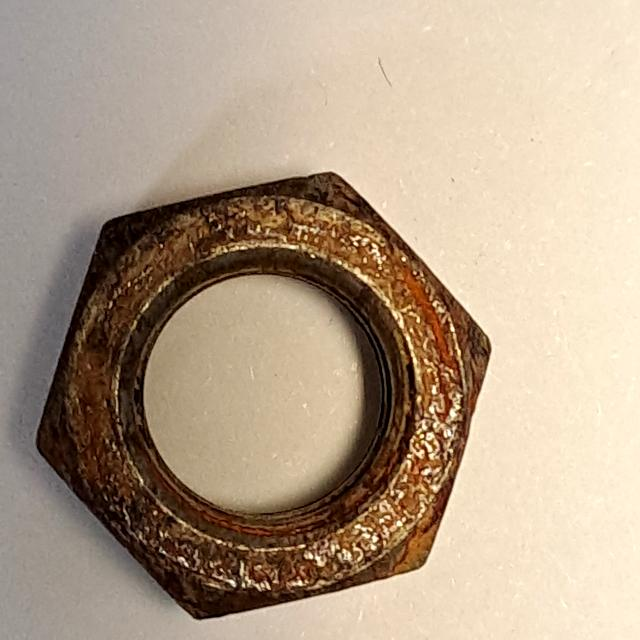Rust: (25, 158, 503, 638)
